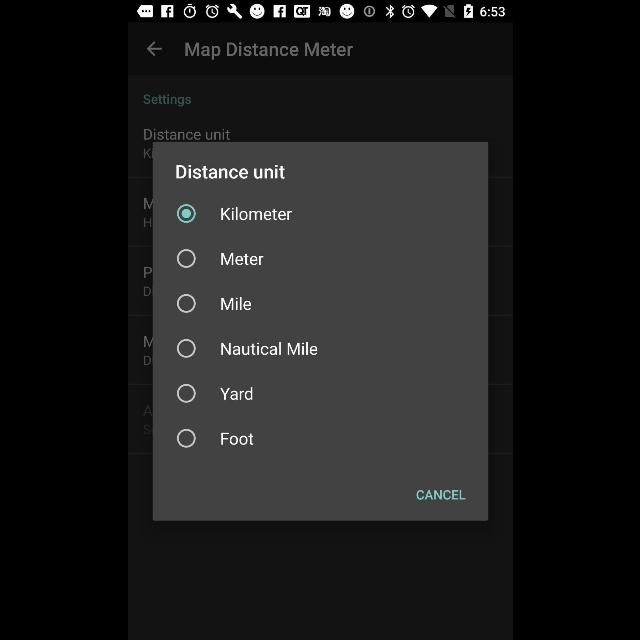checkbox: (177, 428, 196, 448), (177, 339, 196, 358), (177, 204, 196, 222), (177, 294, 196, 312), (176, 249, 194, 267), (176, 384, 194, 402)
icon: (146, 42, 160, 56)
panel: (152, 142, 488, 520)
text: (184, 42, 352, 60), (176, 165, 284, 179), (221, 342, 317, 356), (144, 130, 228, 140), (221, 208, 291, 220), (142, 94, 190, 108), (221, 253, 263, 265), (416, 490, 464, 500), (220, 388, 252, 400), (221, 433, 253, 445), (220, 298, 250, 310)
uppertaskbar: (128, 1, 512, 23)
